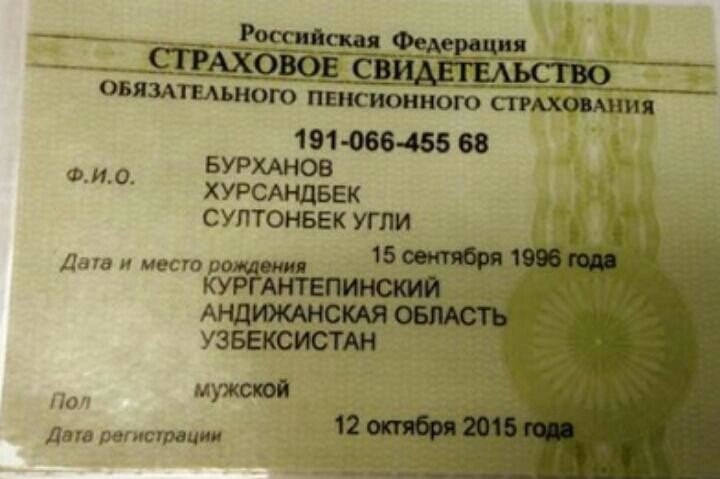text: (333, 408, 579, 445), (367, 242, 632, 274), (202, 272, 407, 313), (291, 123, 501, 157), (192, 204, 420, 234), (200, 181, 374, 209), (198, 152, 353, 179), (191, 376, 298, 400)
